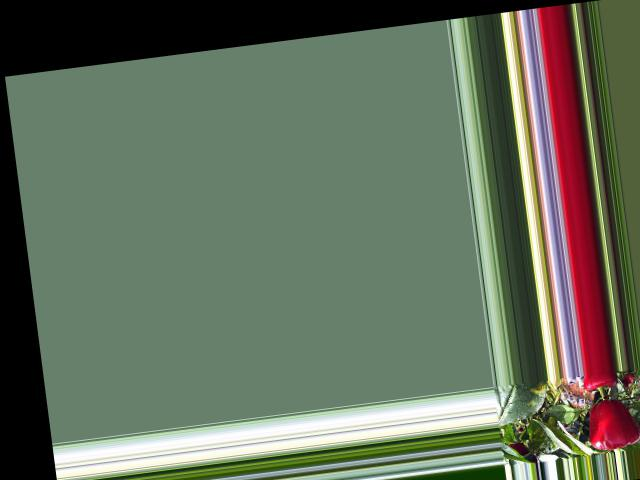bell_pepper: (578, 370, 621, 396)
